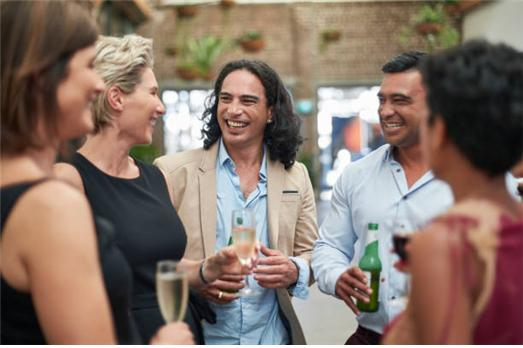alcohol: (355, 222, 382, 313), (231, 208, 258, 293), (156, 260, 190, 324), (390, 210, 418, 270)
